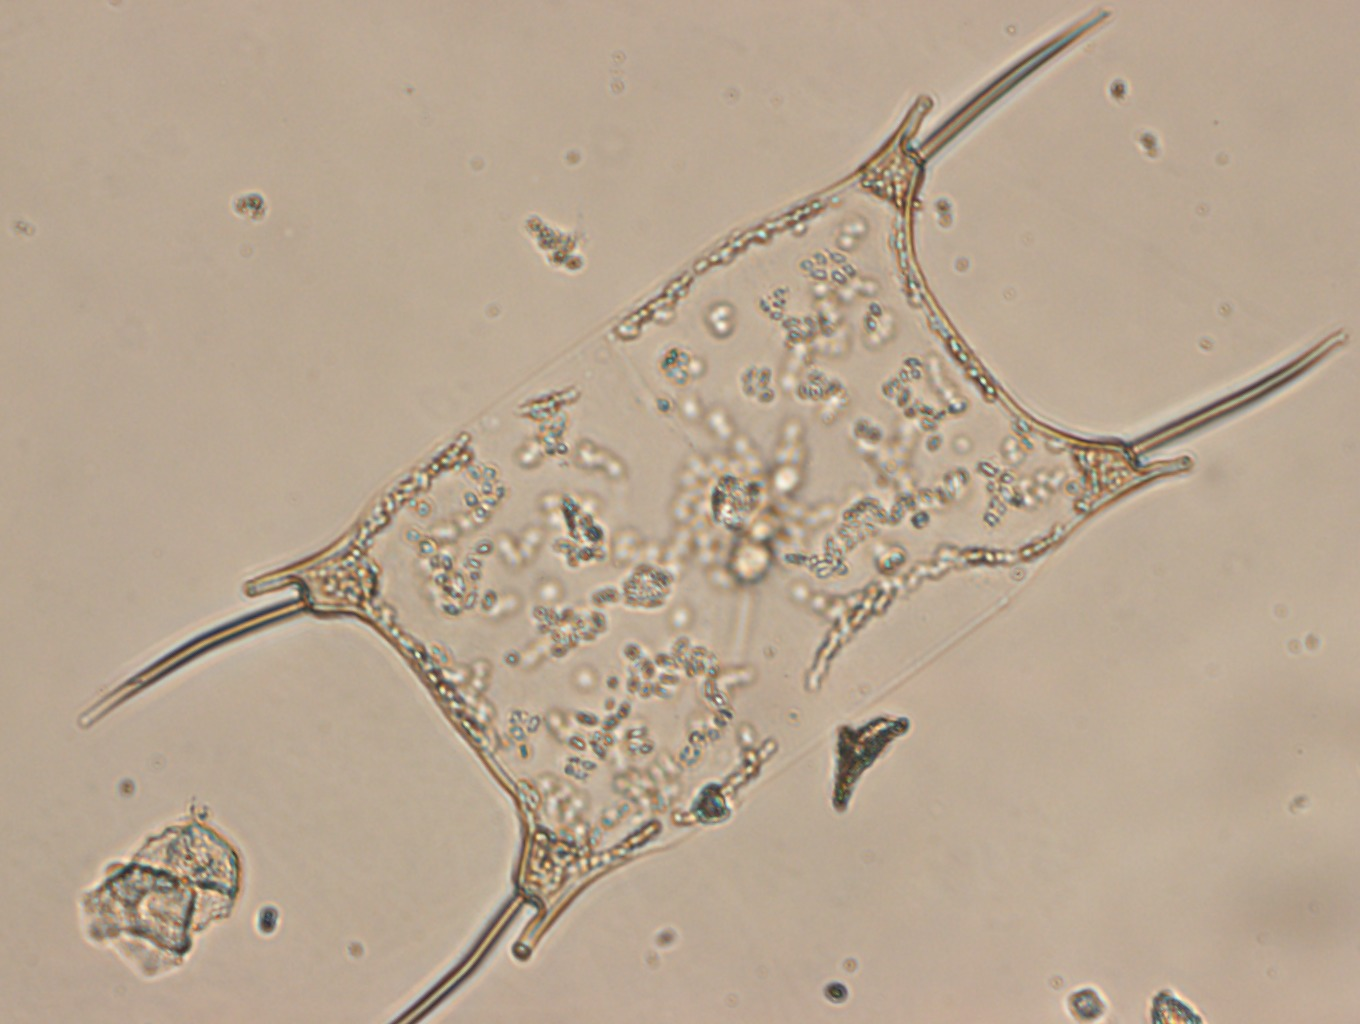biddulphia: (78, 8, 1348, 1024)
